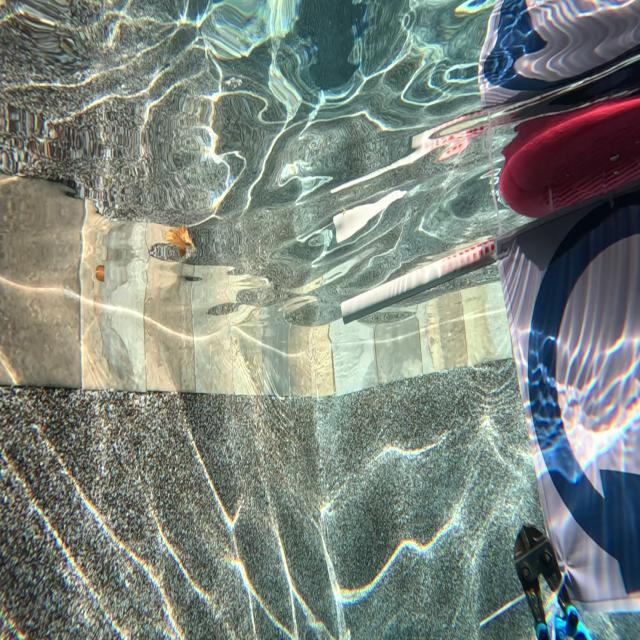blue_side: (536, 206, 640, 636)
